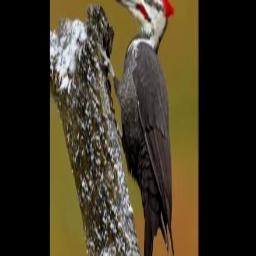Woodpecker: (98, 0, 176, 256)
